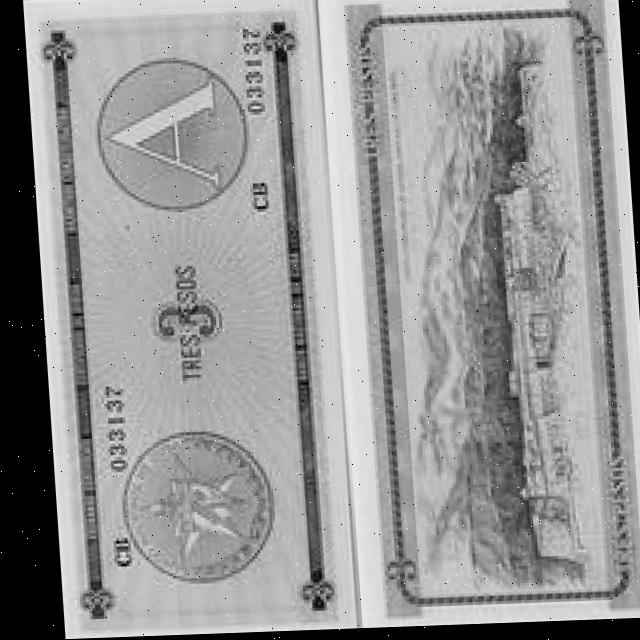banknote: (20, 0, 348, 639), (341, 0, 639, 627)
